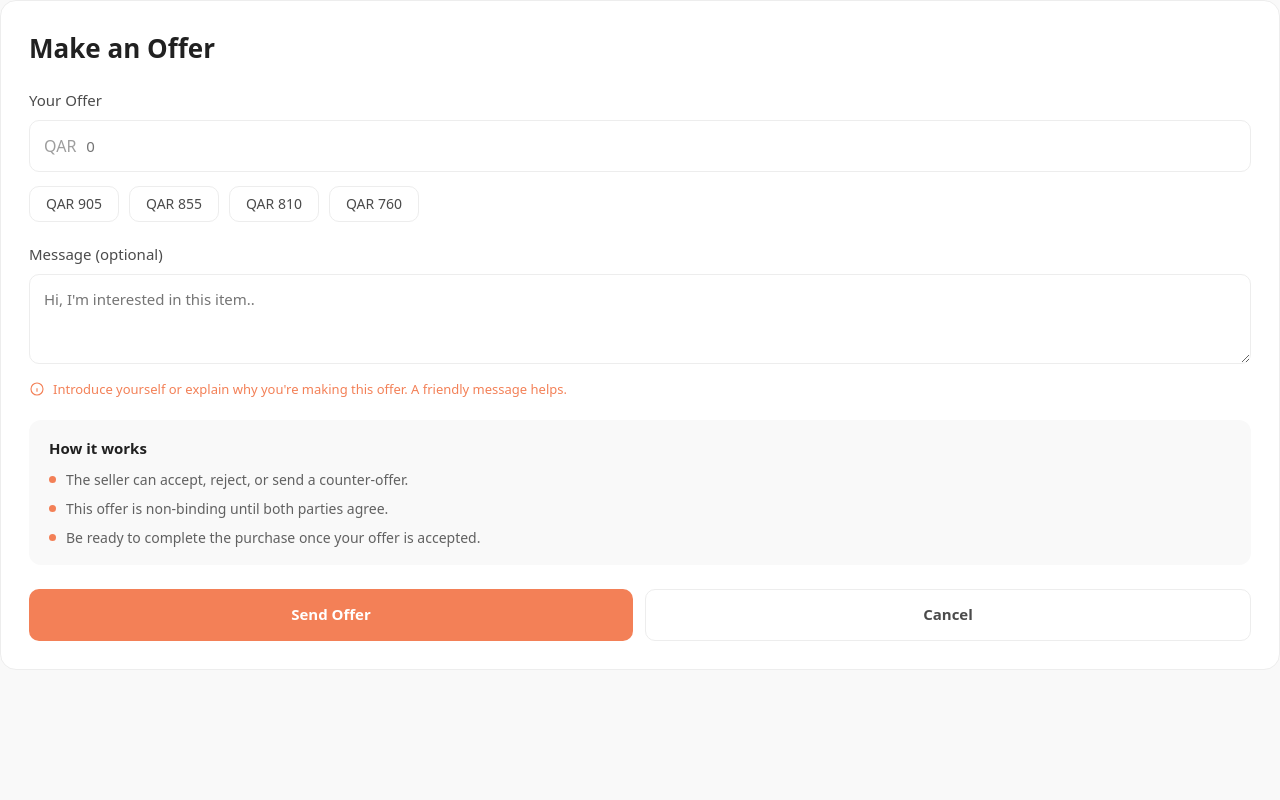
Test: MakeOfferForm › requires an amount within the offer bounds
Step 1. Click the button "Send Offer" → [331, 615], box [29,589,633,641]
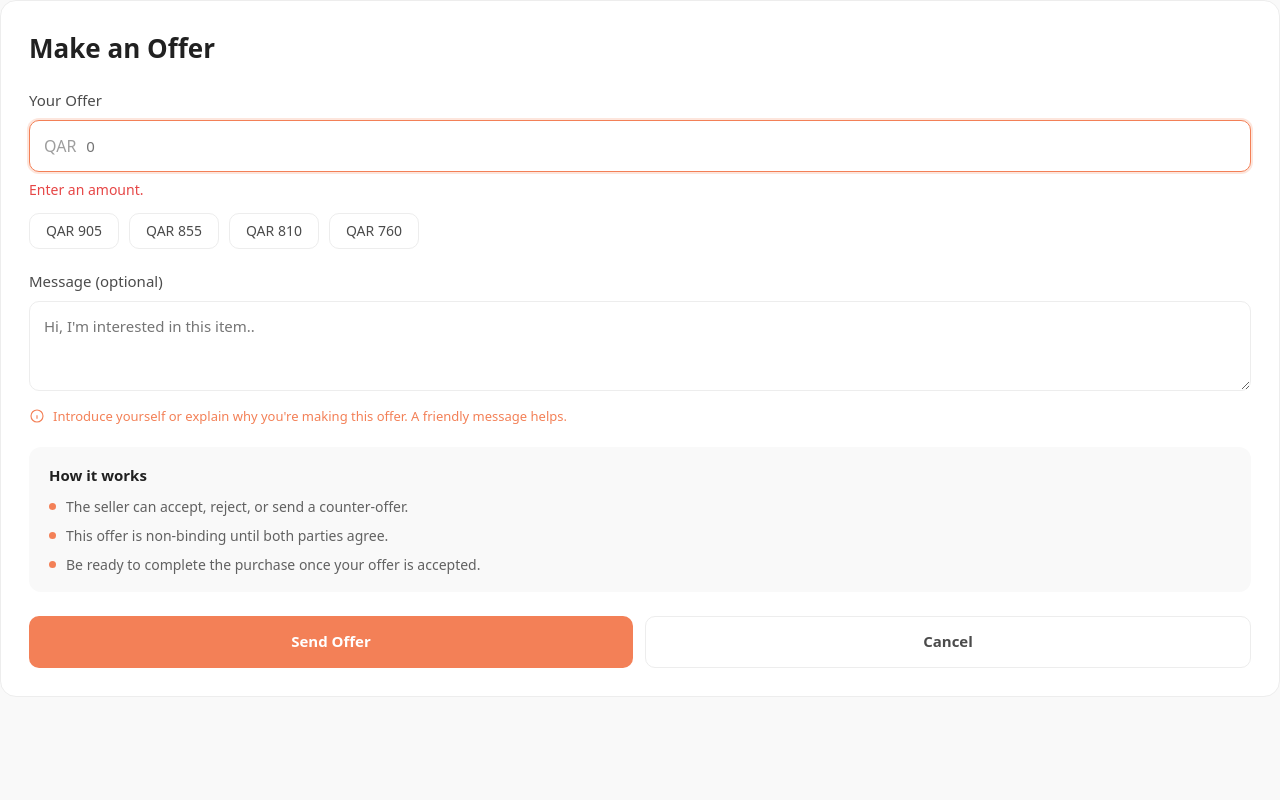
Expected: the text "Enter an amount." is shown, [29,180,144,199]
Step 2. Type "0.5" into the field labelled "Your Offer" → [660, 146], box [84,135,1236,157]
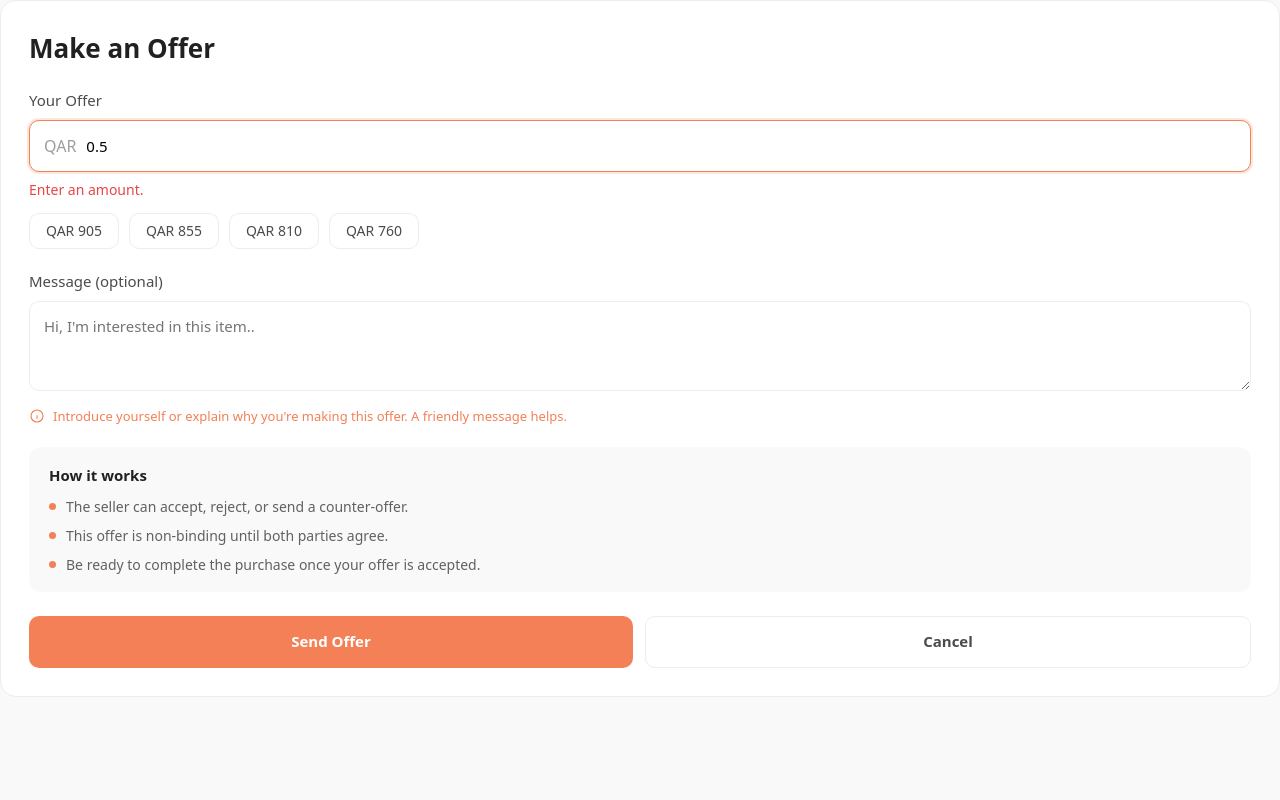
Step 3. Click the button "Send Offer" → [331, 642], box [29,616,633,668]
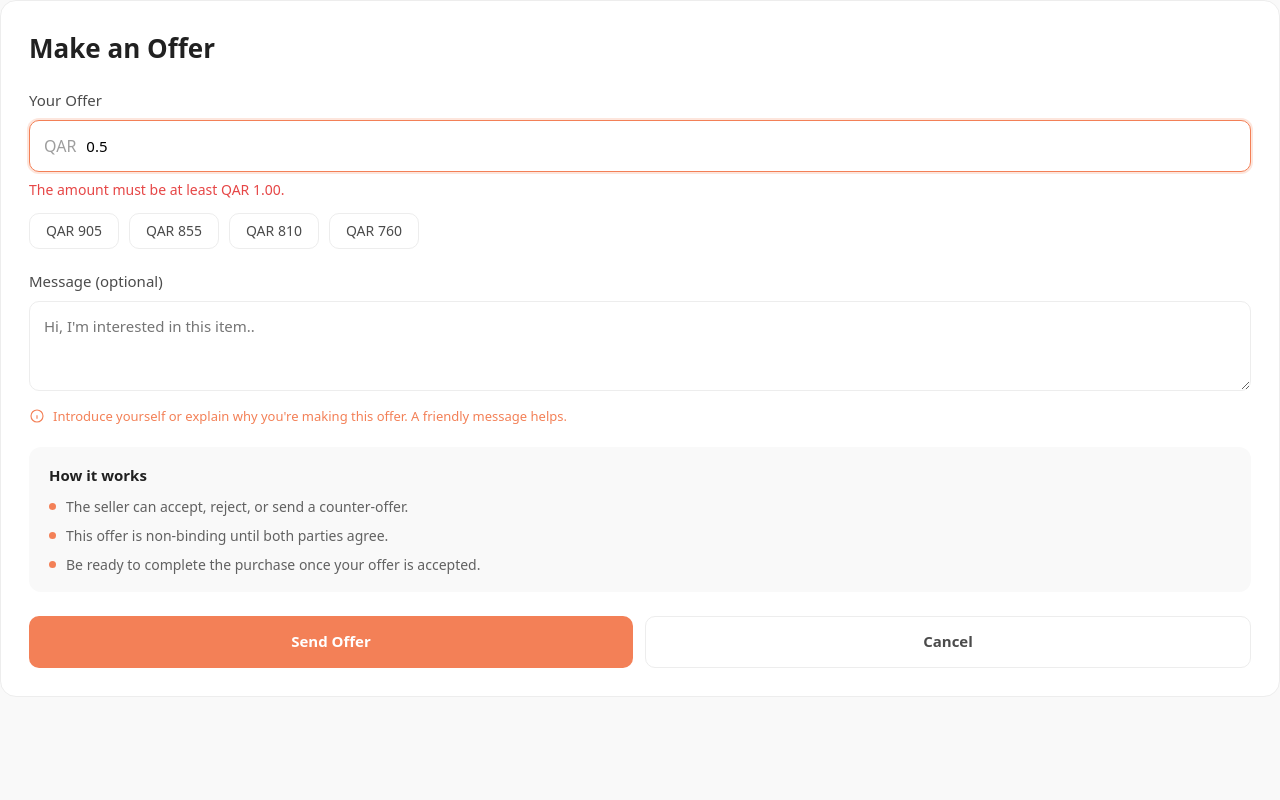
Expected: the text "The amount must be at least QAR 1.00." is shown, [29,180,284,199]
